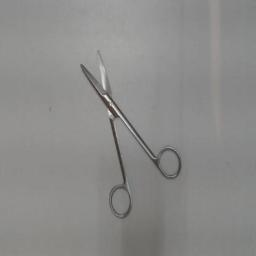Curved Mayo Scissors: (76, 44, 184, 222)
